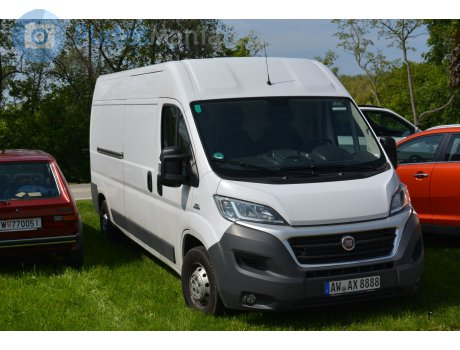License Plates: (331, 277, 381, 287)
